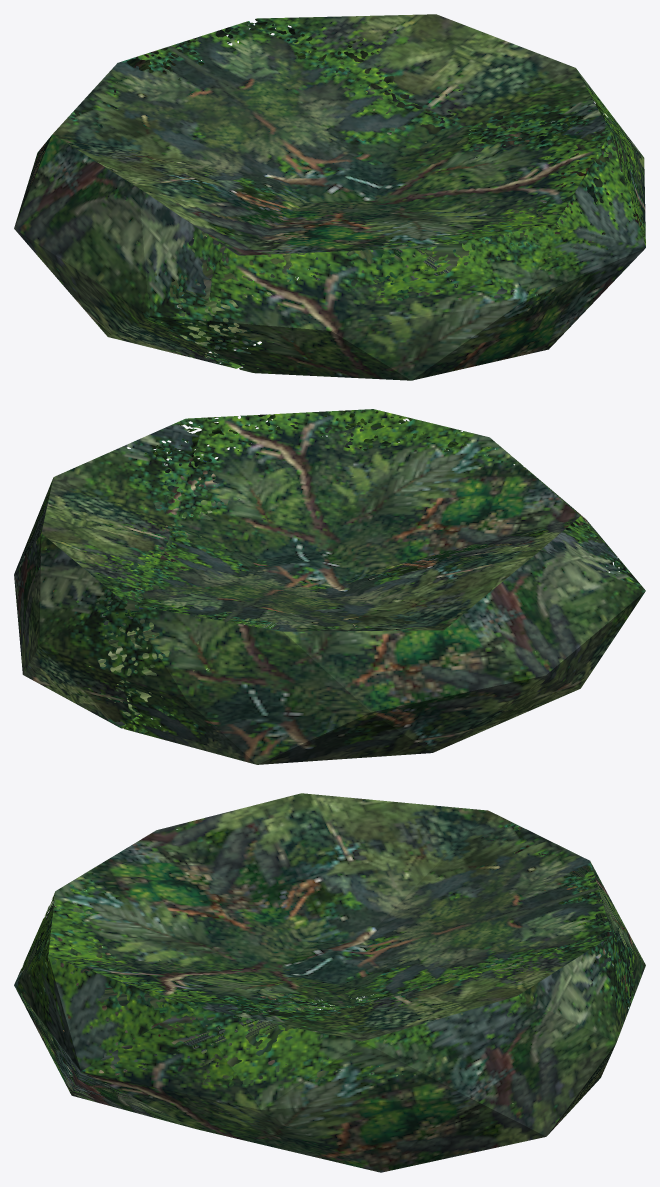
File: MTree_6_Bch_1.gltf
3 renders of one model, top to bottom at view 1: azimuth 30°, elevation 25°; view 2: azimuth 150°, elevation 25°; view 3: azimuth 270°, elevation 25°, orthographic. The views are drawn at different scales.
Parts seen in each view (by area): view 1: MTree_6_Bch_1; view 2: MTree_6_Bch_1; view 3: MTree_6_Bch_1.
Part boxes in pixels (x1,y1,x2,y2): MTree_6_Bch_1: (14,14,645,380); MTree_6_Bch_1: (14,409,645,764); MTree_6_Bch_1: (14,793,645,1172).
Bounding box in the file's own units: 7.75 × 2.04 × 7.53.
1 material, 1 textured.
